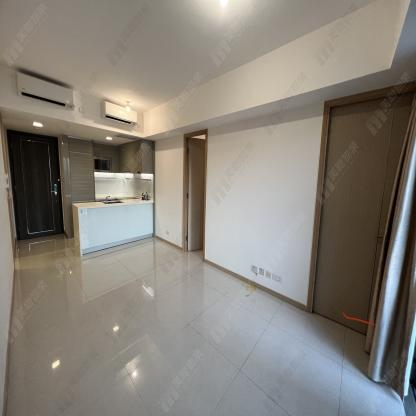AC: (17, 71, 75, 111), (101, 100, 137, 127)
